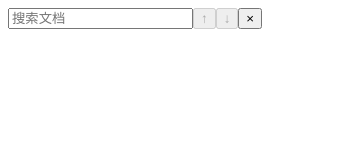
Test: SearchPanel › 输入关键词 → 显示命中数
This screenshot has width=339, height=160.
Type "agent" into the search field.
click(100, 18); type("agent")  # box top-left (8, 8), bottom-right (193, 29)
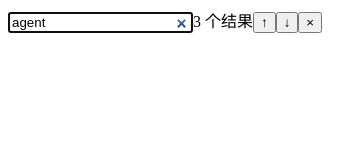
Expected: the text "3 个结果" is shown, top-left (193, 13), bottom-right (253, 30)
